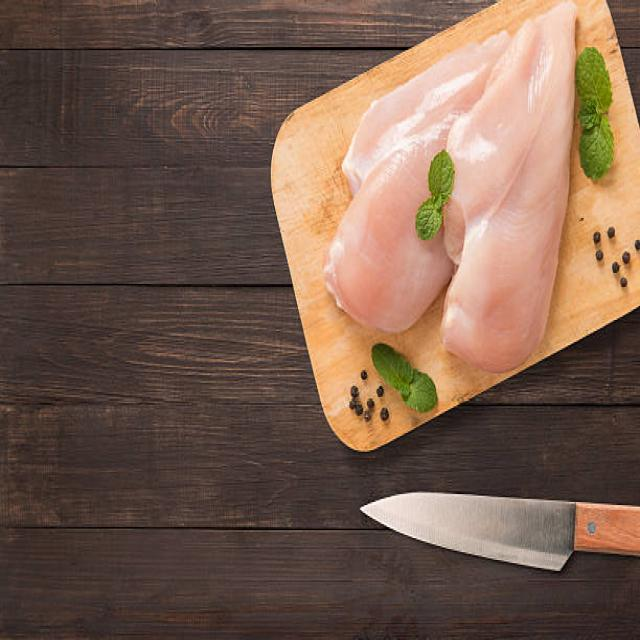Chicken: (462, 24, 573, 353), (334, 120, 419, 328)
